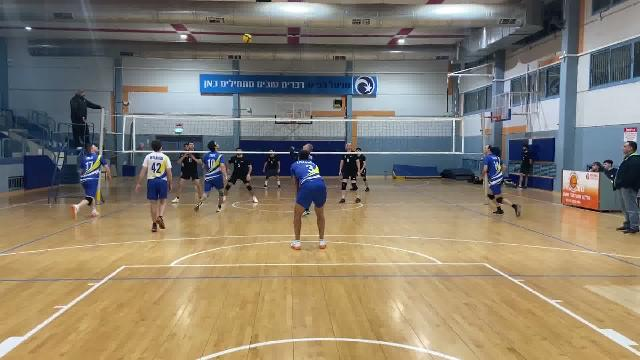ball: (240, 32, 255, 45)
